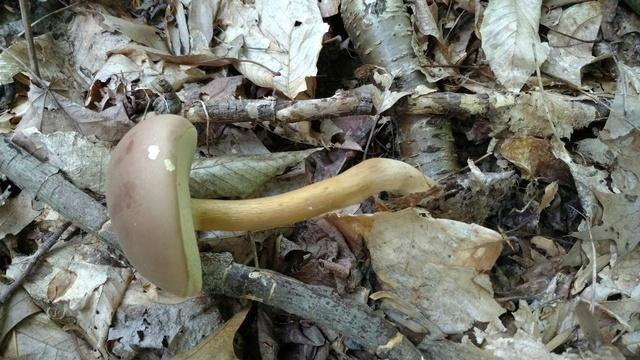poisonous_mushroom: (103, 112, 437, 299)
